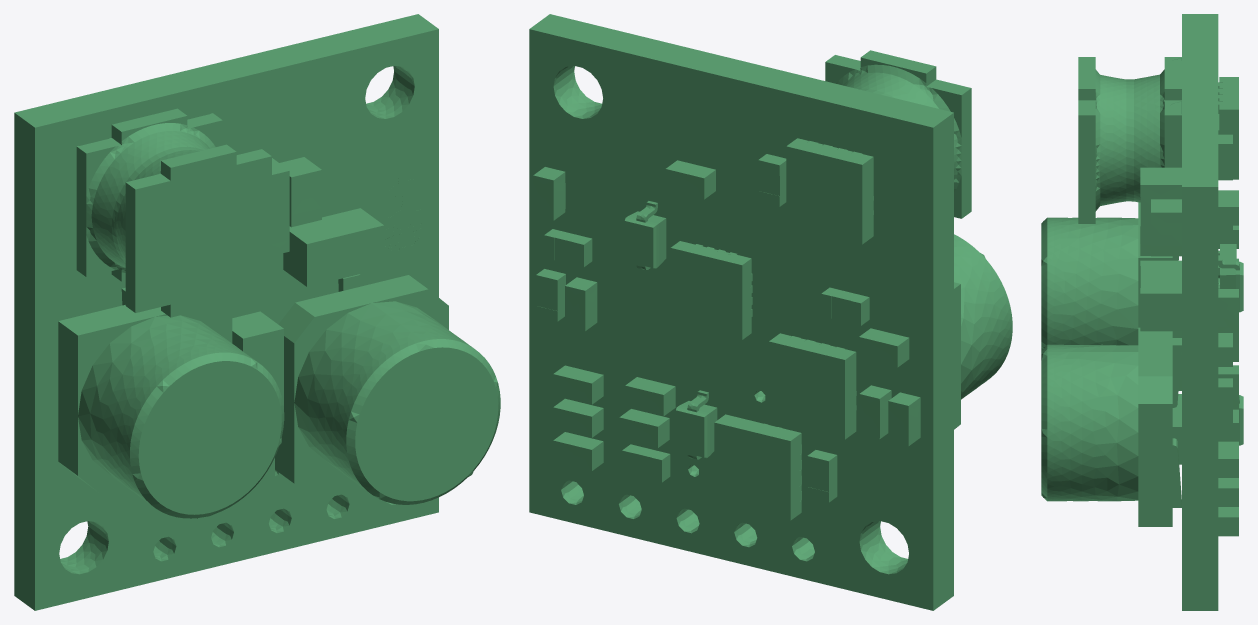
Rendered from regulator_d24v50f5.glb.
The picture shows the model from 3 angles, left to right: view 1: azimuth 30°, elevation 25°; view 2: azimuth 150°, elevation 25°; view 3: azimuth 270°, elevation 25°; orthographic projection. The views are drawn at different scales.
Parts seen in each view (by area): view 1: geometry_0; view 2: geometry_0; view 3: geometry_0.
Boxes of the visible parts, x1=… form: geometry_0: x1=14, y1=14, x2=500, y2=610; geometry_0: x1=529, y1=14, x2=1012, y2=610; geometry_0: x1=1041, y1=14, x2=1243, y2=610.
Size of the model in its own units: 17.78 by 20.32 by 8.77.
